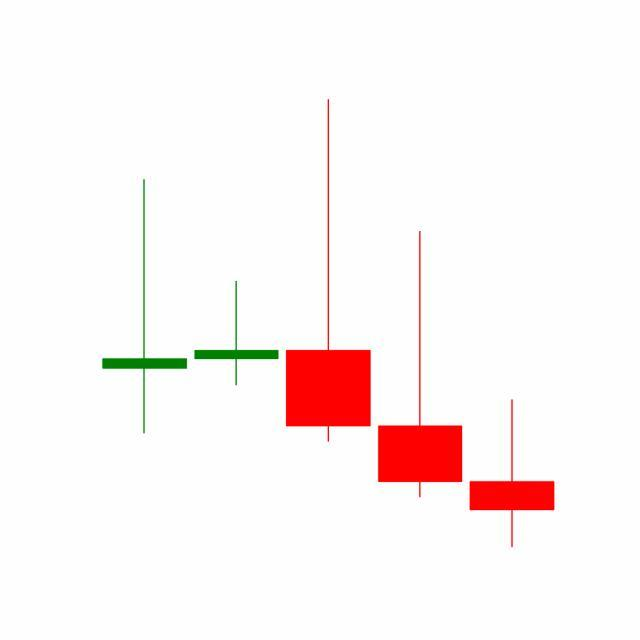Spinning Top: (466, 398, 559, 550)
